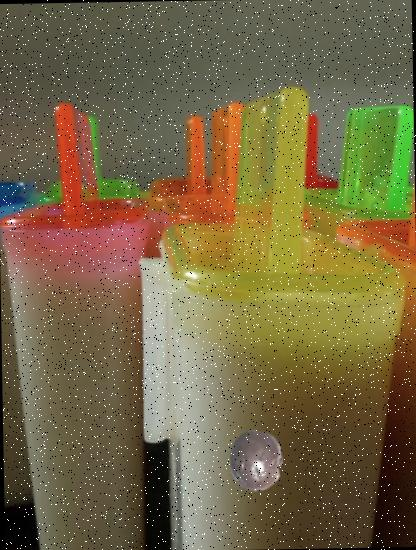Passion: (224, 428, 288, 492)
